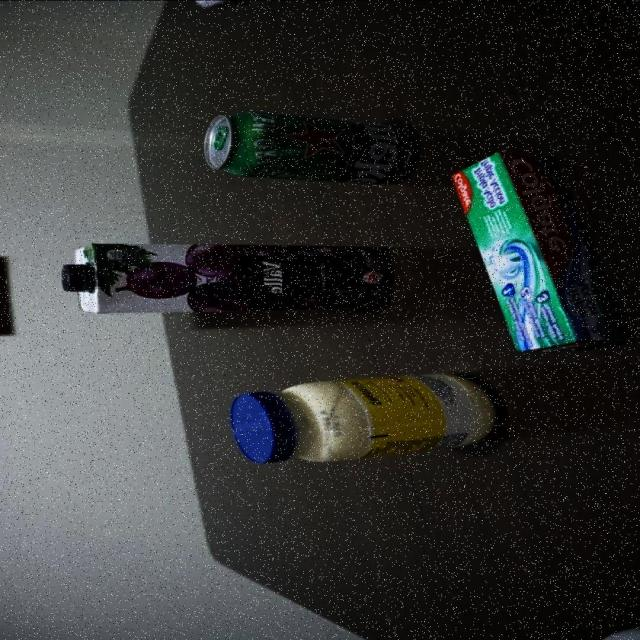BeerCan: (200, 112, 419, 188)
Mayonnaise: (226, 372, 501, 464)
Toothpaste: (453, 154, 628, 352)
